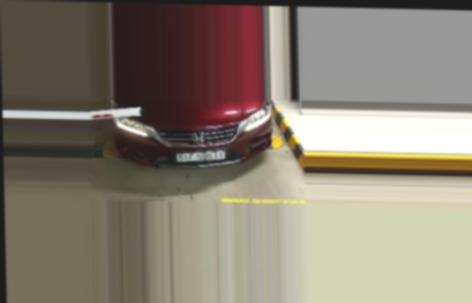License_Plate: (173, 149, 229, 163)
